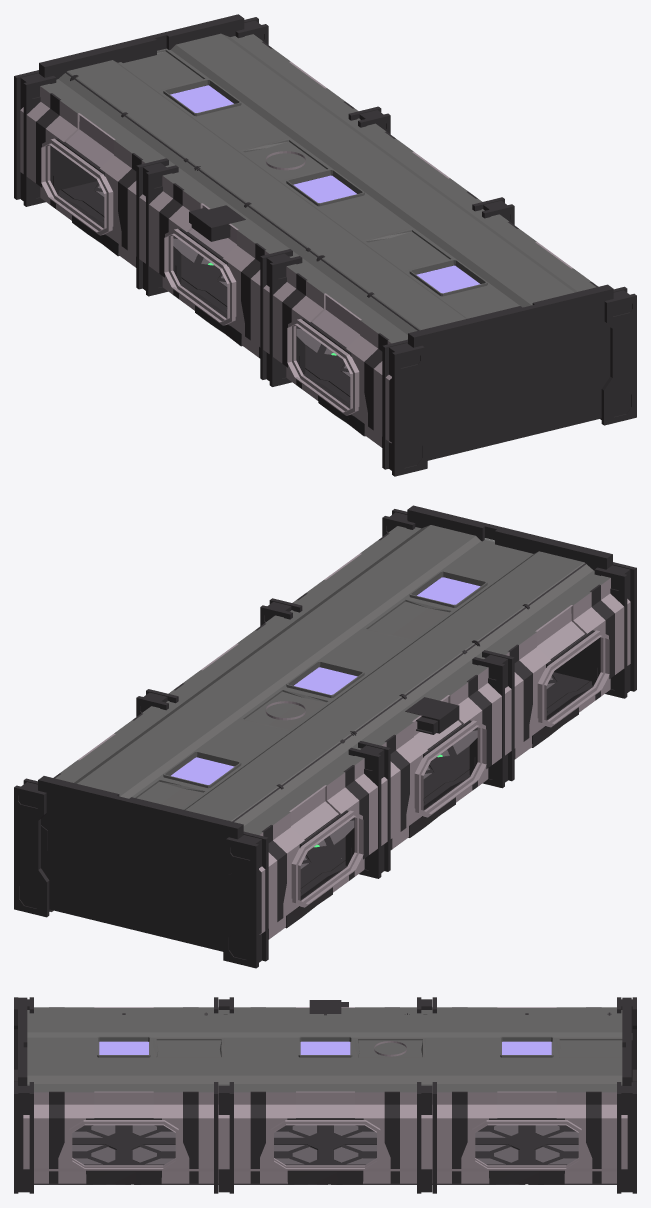
Rendered from spaceship_master2-transformed.glb.
3 views of the same model, one above another, from view 1: azimuth 30°, elevation 25°; view 2: azimuth 150°, elevation 25°; view 3: azimuth 270°, elevation 25° (orthographic). The views are drawn at different scales.
Parts seen in each view (by area): view 1: Cube, Cube.006, Cube.002, Cube.004, Cube.007, wall base.001, wall base.002, wall base, wall supporter high, wall supporter high.002, wall supporter high.001, floor_base (+9 smaller); view 2: Cube, Cube.006, Cube.004, Cube.002, Cube.007, wall base.001, wall base.002, wall base, wall supporter high, wall supporter high.001, wall supporter high.002, floor_base (+9 smaller); view 3: Cube.006, Cube.004, Cube.002, wall base, wall base.002, wall base.001, Cube.007, wall supporter high.002, wall supporter high.001, wall supporter high, floor_rectangles_base.002, floor_rectangles_base.001 (+19 smaller).
Part boxes in pixels (x1,y1,x2,y2): Cube: (39, 14, 613, 460); Cube.006: (163, 121, 484, 257); Cube.002: (40, 33, 360, 167); Cube.004: (287, 211, 596, 343); Cube.007: (14, 17, 636, 476); wall base.001: (266, 242, 572, 447); wall base.002: (20, 61, 326, 267); wall base: (143, 151, 449, 357); wall supporter high: (159, 131, 477, 358); wall supporter high.002: (36, 41, 354, 267); wall supporter high.001: (282, 221, 598, 447); floor_base: (180, 268, 422, 367); Cube: (38, 505, 612, 951); Cube.006: (166, 613, 487, 749); Cube.004: (290, 525, 610, 658); Cube.002: (55, 703, 364, 834); Cube.007: (14, 509, 636, 968); wall base.001: (324, 553, 630, 758); wall base.002: (78, 733, 384, 939); wall base: (201, 643, 507, 848); wall supporter high: (174, 623, 491, 849); wall supporter high.001: (297, 533, 614, 759); wall supporter high.002: (53, 713, 368, 939); floor_base: (229, 760, 470, 858); Cube.006: (224, 1007, 426, 1092); Cube.004: (27, 1007, 224, 1092); Cube.002: (426, 1007, 622, 1092); wall base: (224, 1007, 426, 1183); wall base.002: (426, 1007, 627, 1183); wall base.001: (23, 1007, 224, 1183); Cube.007: (14, 997, 636, 1193); wall supporter high.002: (452, 1007, 601, 1183); wall supporter high.001: (49, 1007, 198, 1183); wall supporter high: (250, 1007, 399, 1183); floor_rectangles_base.002: (475, 1125, 578, 1164); floor_rectangles_base.001: (72, 1125, 175, 1164).
Size of the model in its own units: 12.17 by 5.94 by 30.93.
